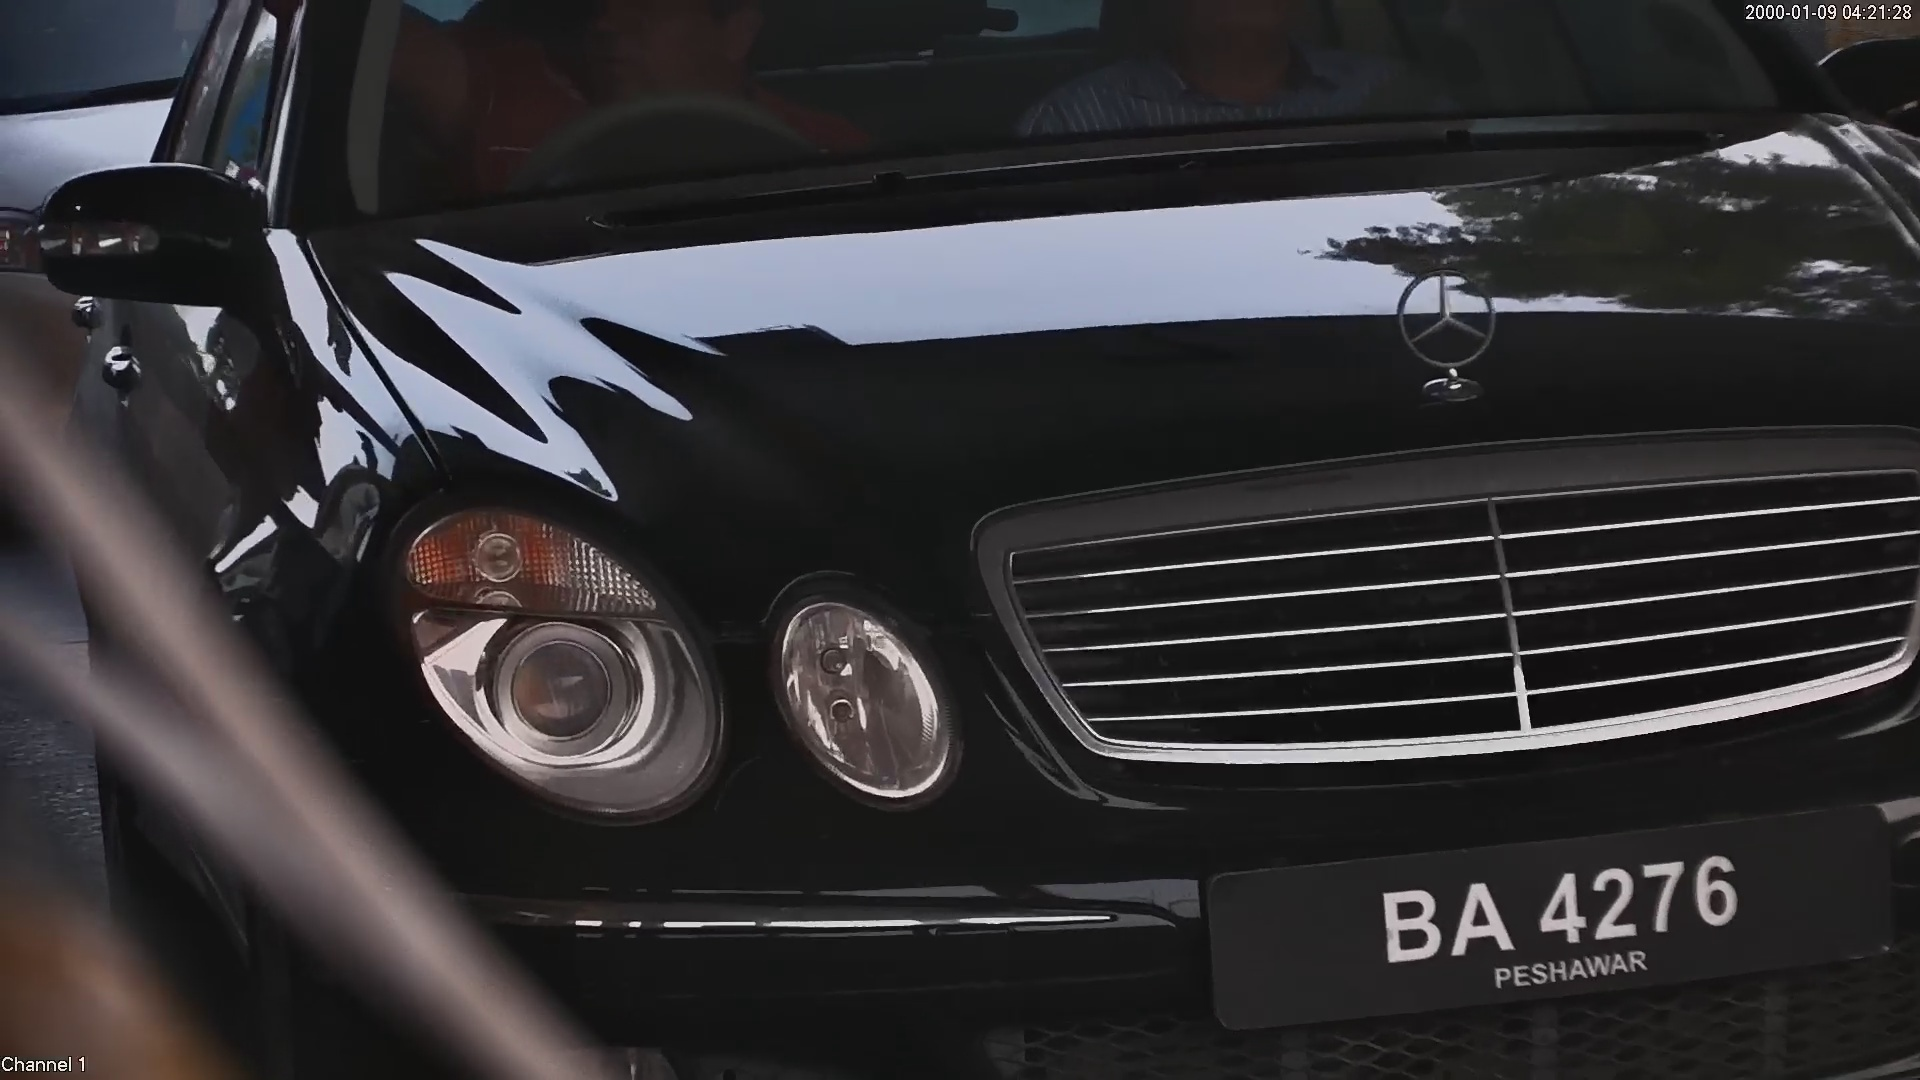Number_Plate: (1197, 840, 1884, 1003)
Undefined: (408, 503, 958, 820)
